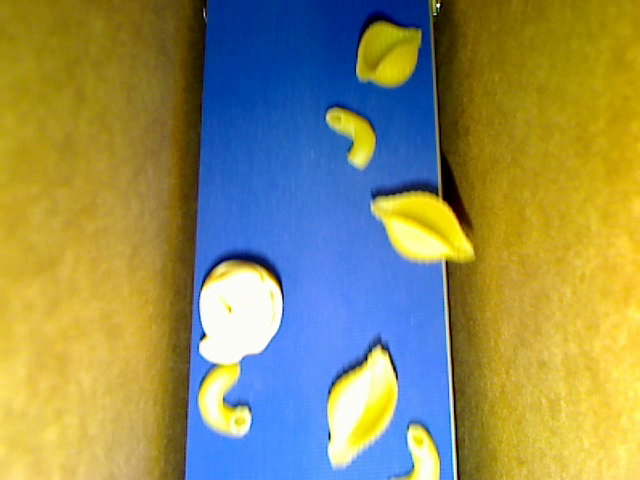elbow: (198, 363, 251, 436), (325, 107, 377, 169), (388, 422, 440, 479)
shell: (327, 344, 398, 470), (369, 190, 474, 264), (355, 21, 420, 89)
tortellini: (197, 258, 282, 363)
